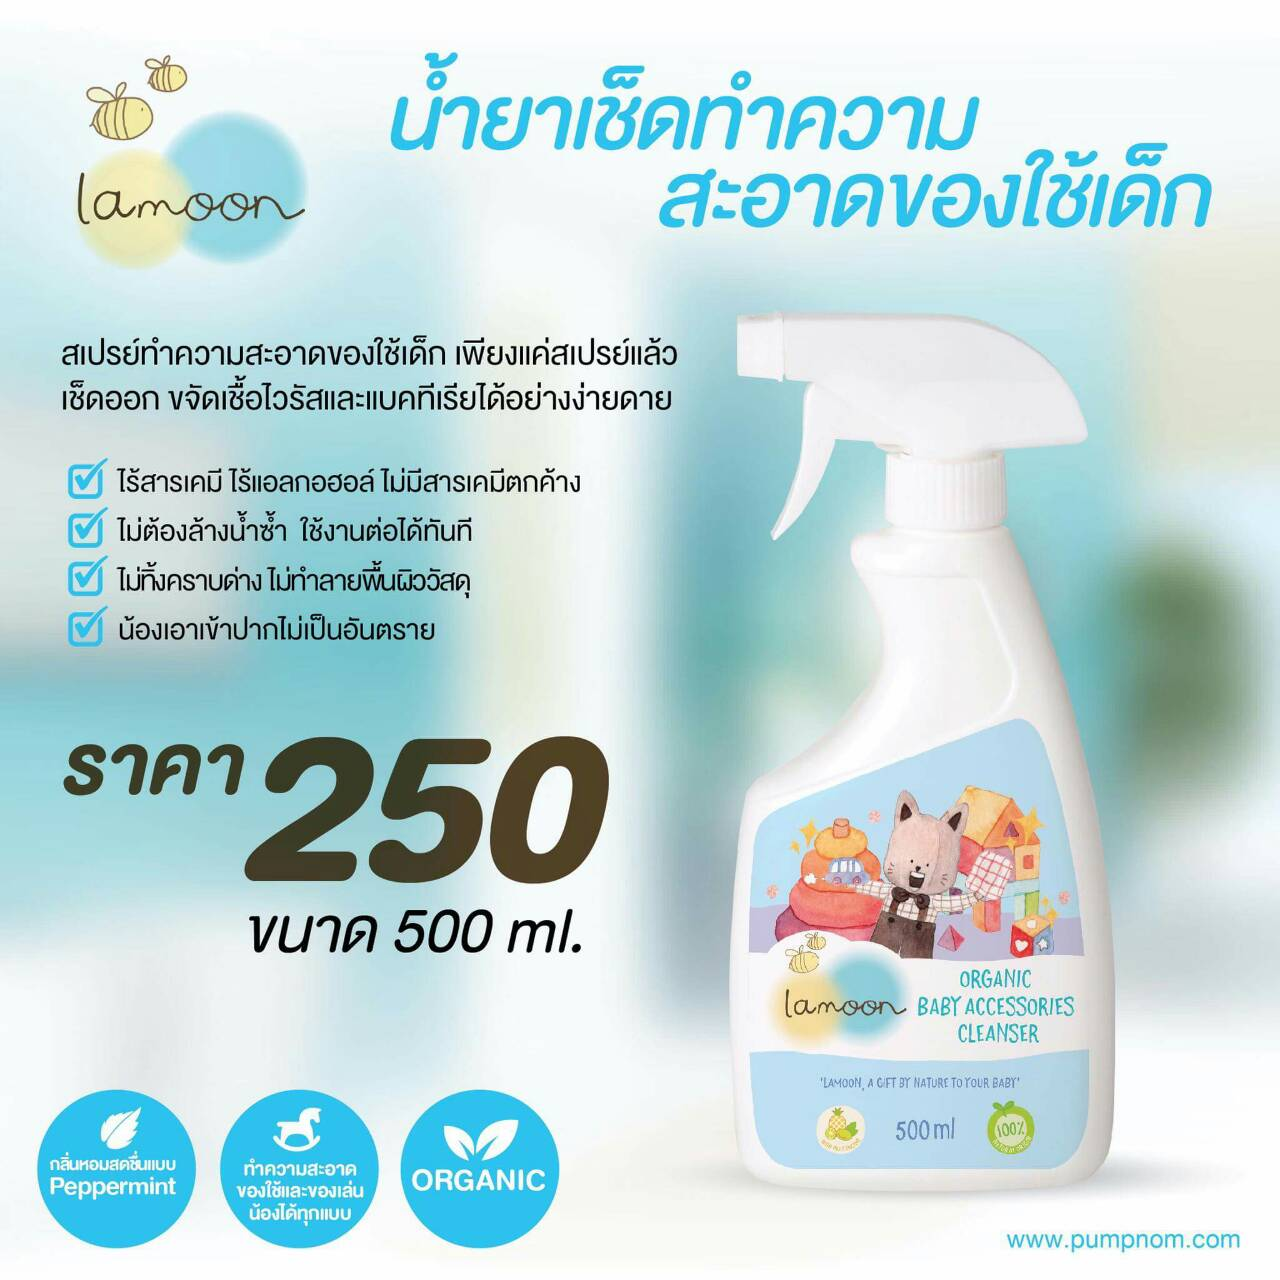Cleaning_solution: (721, 299, 1133, 1204)
